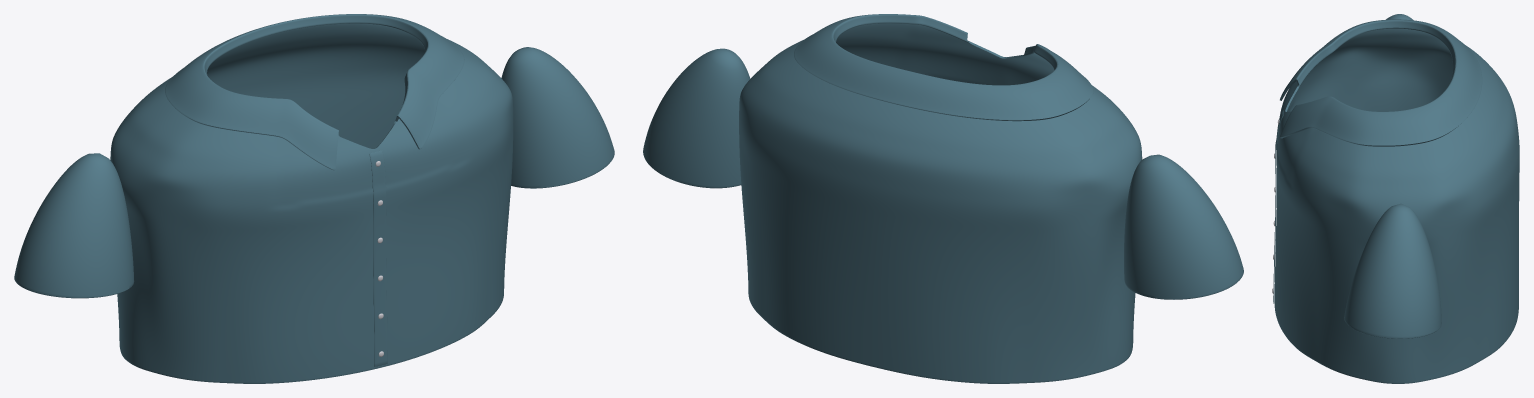
The model's file is Masculine-buttonup-top.glb.
3 renders of one model, left to right at view 1: azimuth 30°, elevation 25°; view 2: azimuth 150°, elevation 25°; view 3: azimuth 270°, elevation 25°, orthographic. The views are drawn at different scales.
Parts seen in each view (by area): view 1: Clothing / open front collar203, Sleeve / full fabric wrap201 -1, Sleeve / full fabric wrap201 1, Button-up / placket203; view 2: Clothing / open front collar203, Sleeve / full fabric wrap201 -1, Sleeve / full fabric wrap201 1; view 3: Clothing / open front collar203, Sleeve / full fabric wrap201 1, Button-up / placket203.
Boxes of the visible parts, x1,y1,x2,y2 form: Clothing / open front collar203: (110,14,513,383); Sleeve / full fabric wrap201 -1: (14,153,134,297); Sleeve / full fabric wrap201 1: (501,47,614,188); Button-up / placket203: (369,150,387,366); Clothing / open front collar203: (739,14,1142,383); Sleeve / full fabric wrap201 -1: (1124,154,1243,299); Sleeve / full fabric wrap201 1: (643,48,750,188); Clothing / open front collar203: (1274,19,1519,383); Sleeve / full fabric wrap201 1: (1344,203,1441,338); Button-up / placket203: (1273,110,1283,303).
Bounding box in the file's own units: 1.08 × 0.4739 × 0.4375.
